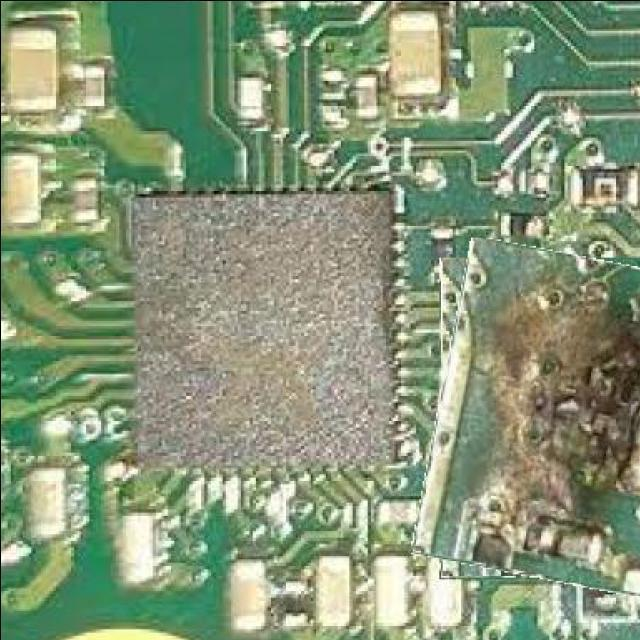Burn: (425, 244, 640, 588)
